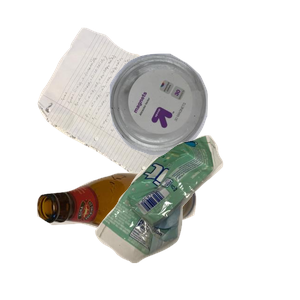glass: (34, 170, 223, 300)
paper: (35, 25, 232, 204)
plastic: (107, 51, 300, 199)
trash: (92, 133, 300, 300)
